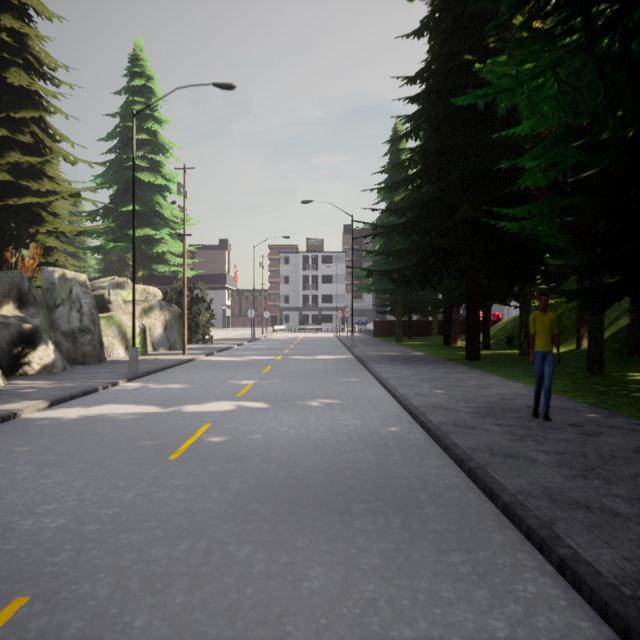Pedestrian: (530, 291, 560, 421)
Traffic_Signs: (248, 310, 255, 319), (344, 308, 351, 317), (336, 310, 342, 318), (264, 311, 270, 318)
Vehicle: (354, 319, 368, 326)
